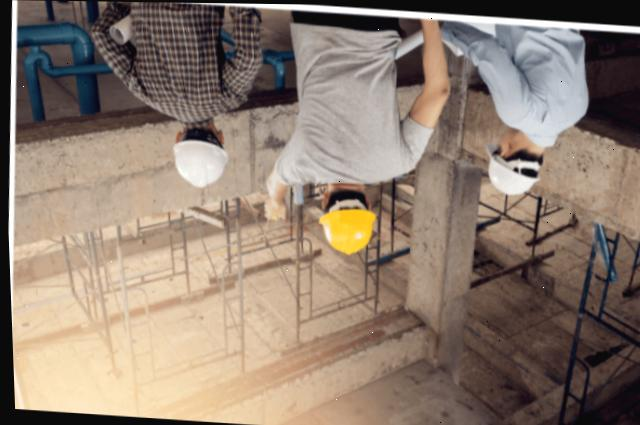helmet: (480, 146, 539, 203), (170, 136, 228, 190), (312, 205, 376, 253)
